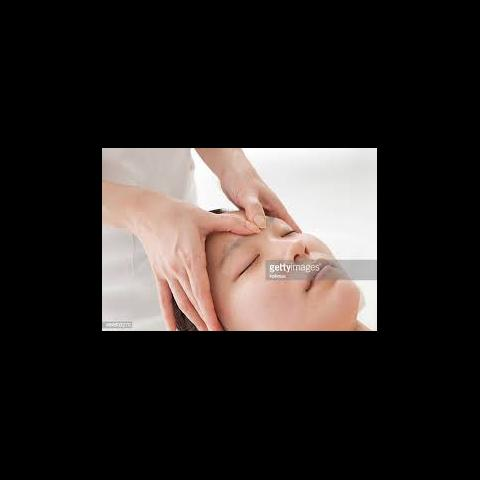closed: (221, 220, 297, 278)
